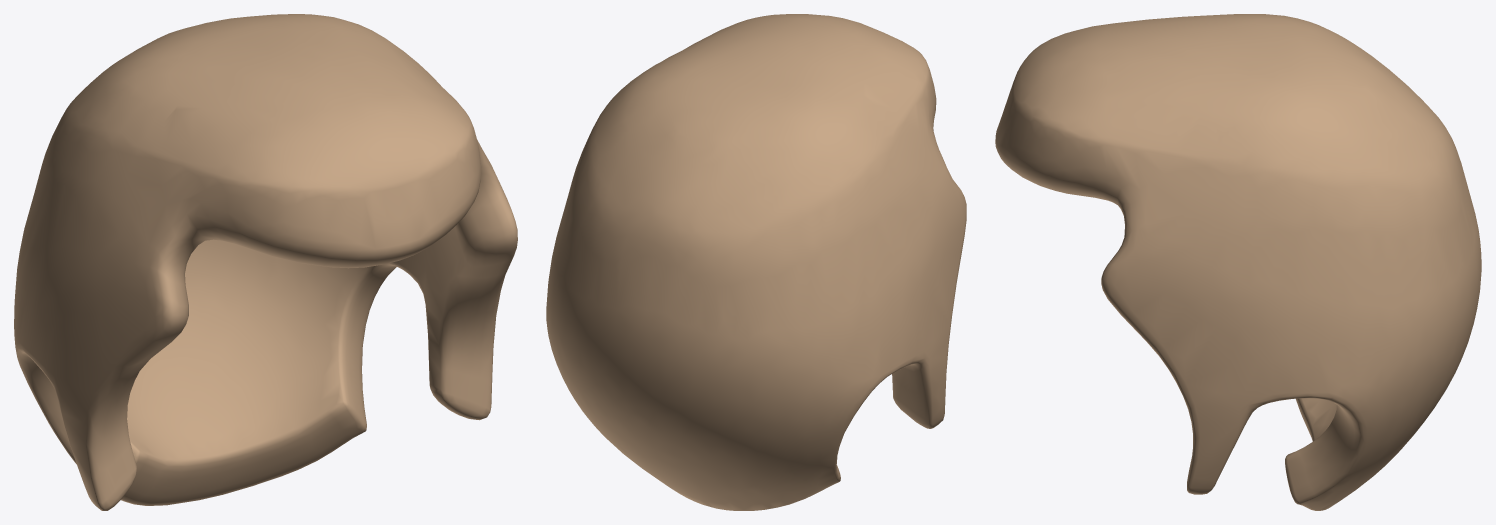
Rendered from hair-3-d3e5df7a.glb.
3 renders of one model, left to right at view 1: azimuth 30°, elevation 25°; view 2: azimuth 150°, elevation 25°; view 3: azimuth 270°, elevation 25°, orthographic. The views are drawn at different scales.
Visible parts, largest first — view 1: Geo_White_Old_Male_Hair_3.001; view 2: Geo_White_Old_Male_Hair_3.001; view 3: Geo_White_Old_Male_Hair_3.001.
Boxes of the visible parts, left/top/right/bottom form: Geo_White_Old_Male_Hair_3.001: left=14, top=14, right=517, bottom=510; Geo_White_Old_Male_Hair_3.001: left=546, top=14, right=966, bottom=510; Geo_White_Old_Male_Hair_3.001: left=995, top=14, right=1481, bottom=510.
Size of the model in its own units: 1.38 by 1.56 by 1.54.
